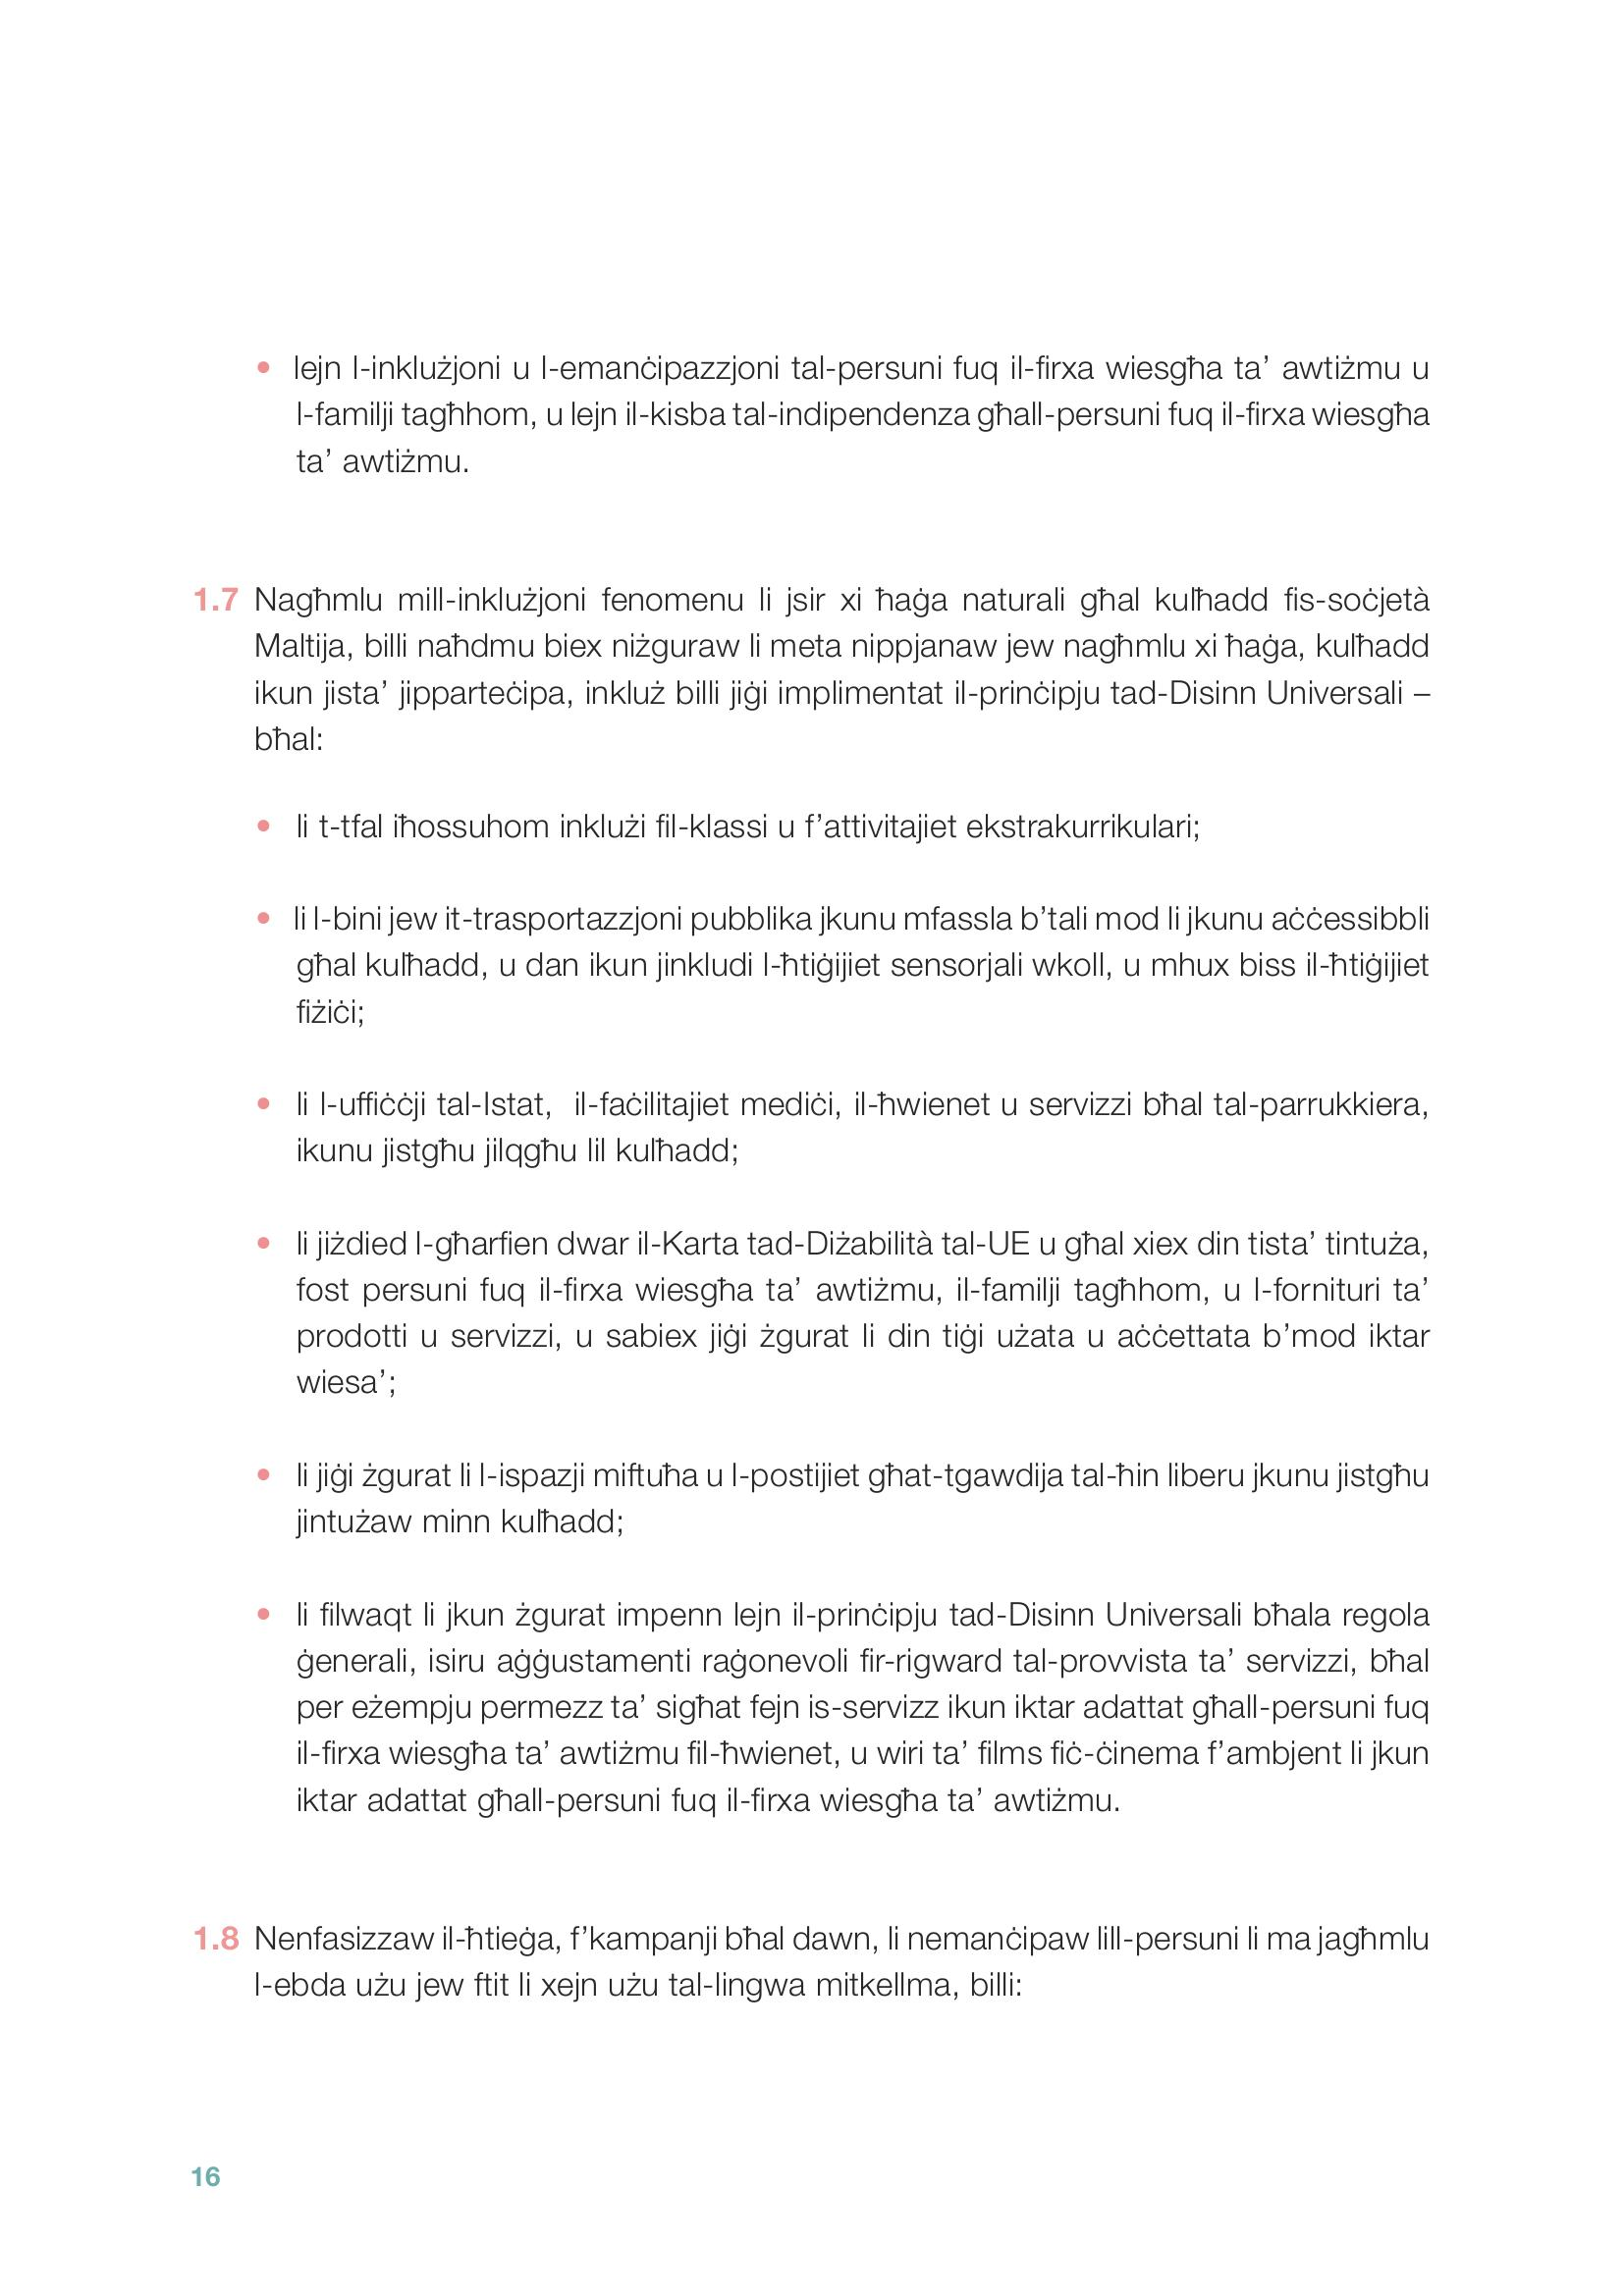text: (178, 320, 1452, 2029)
